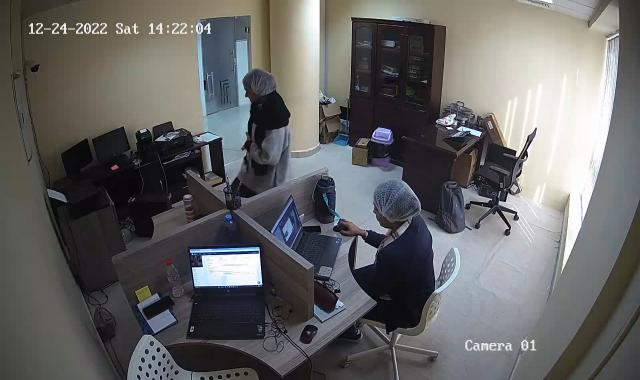hairnet: (374, 179, 422, 231), (242, 68, 277, 105)
